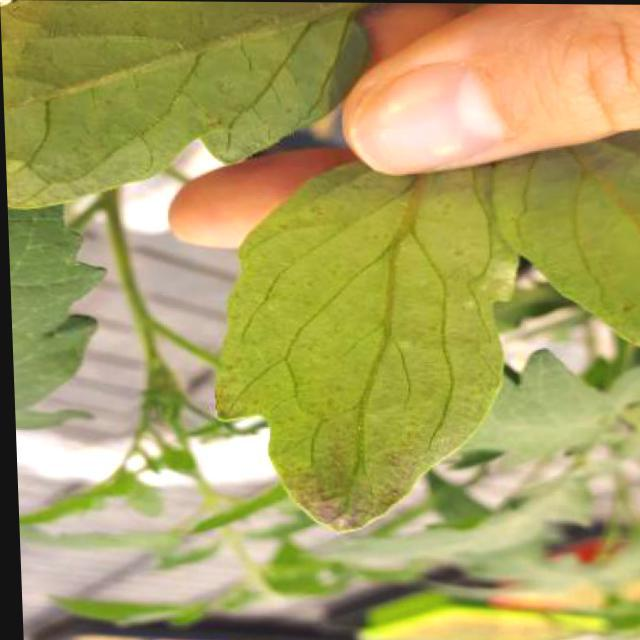Tomato mold leaf: (190, 127, 538, 546)
